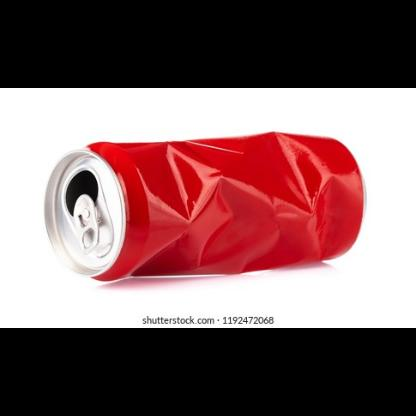Dent_Can: (133, 141, 310, 276), (117, 152, 224, 261), (289, 146, 354, 258)
Lid_Open: (56, 167, 110, 259)
Tin_Can: (32, 132, 370, 286)
